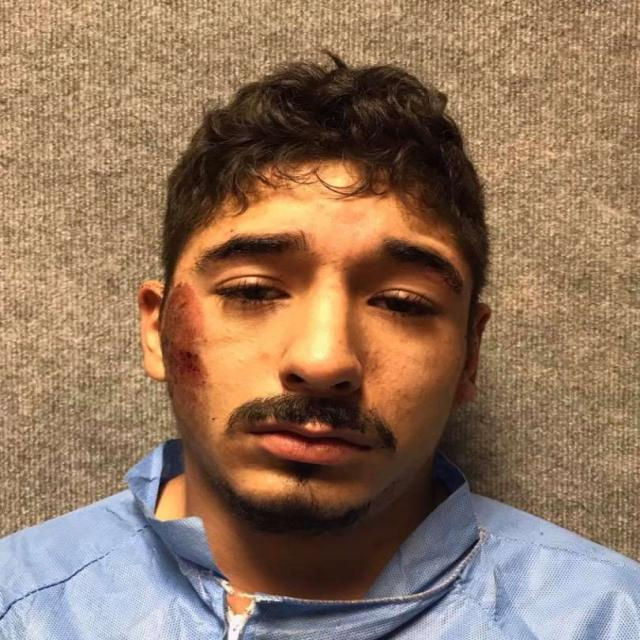mobile_phonerotation: (1, 48, 638, 638)
